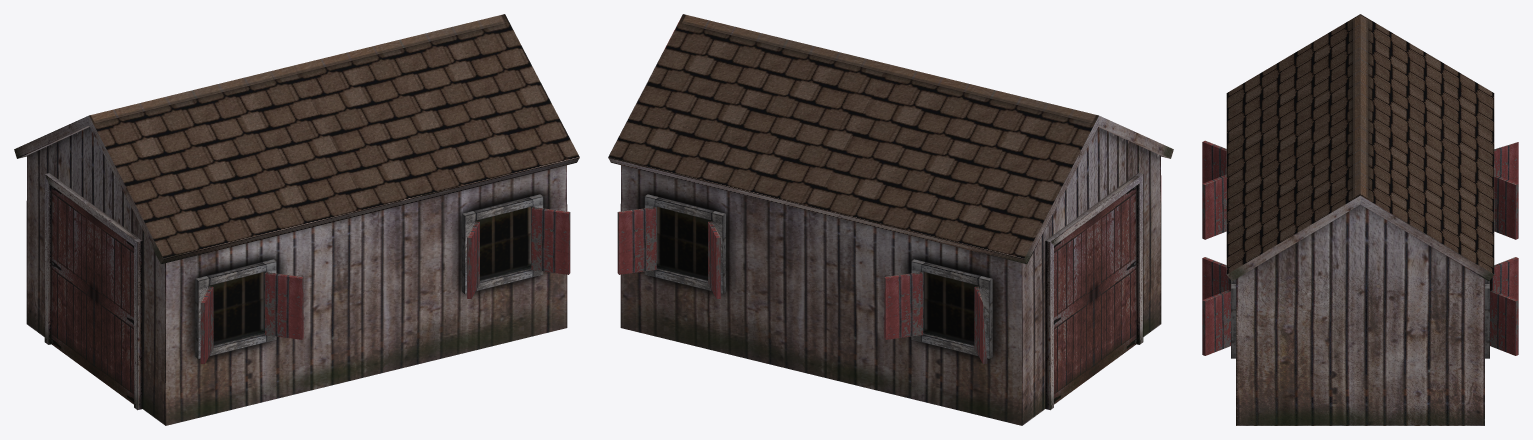
File: shed1.obj
3 renders of one model, left to right at view 1: azimuth 30°, elevation 25°; view 2: azimuth 150°, elevation 25°; view 3: azimuth 270°, elevation 25°, orthographic. The views are drawn at different scales.
Parts seen in each view (by area): view 1: mesh02; view 2: mesh02; view 3: mesh02.
Boxes of the visible parts, left/top/right/bottom form: mesh02: left=14, top=14, right=579, bottom=425; mesh02: left=608, top=14, right=1173, bottom=425; mesh02: left=1202, top=14, right=1518, bottom=425.
Size of the model in its own units: 10.36 by 6.22 by 7.62.
Materials: 1 (1 with a texture image).
